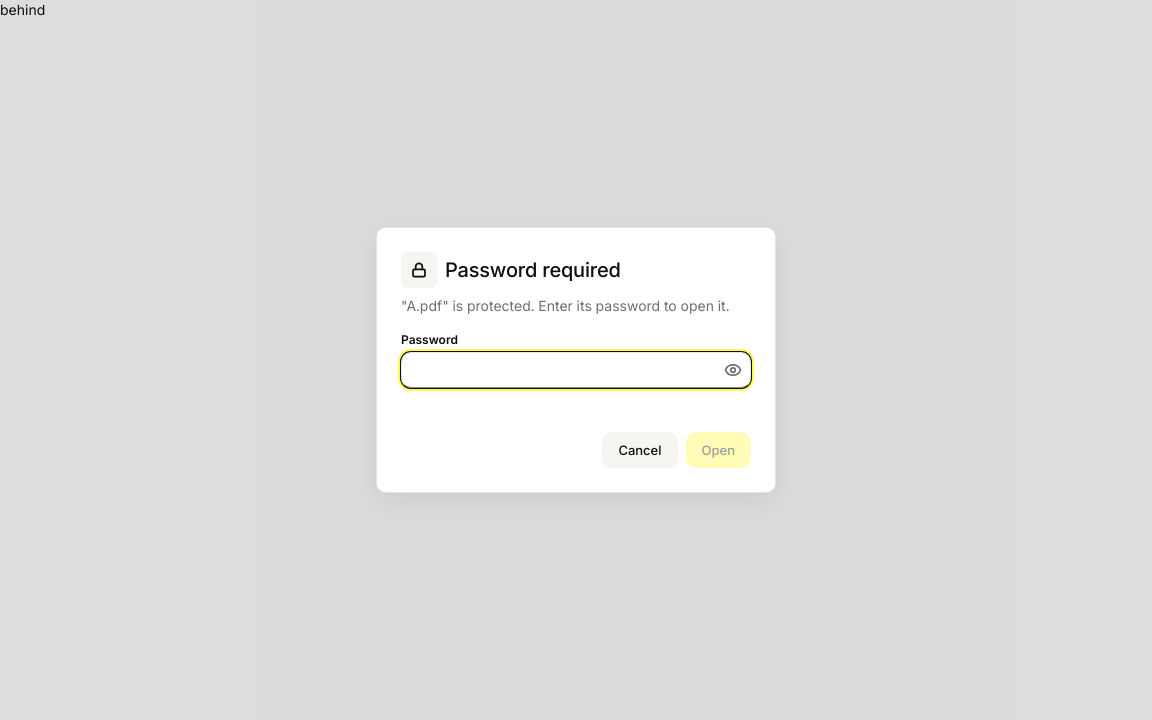
it: the password prompt › a wrong password says so as an alert, marks the field and stays
Type "nope" into the password field labelled "Password" at (576, 370), box [401,352,751,388]
Then press Enter
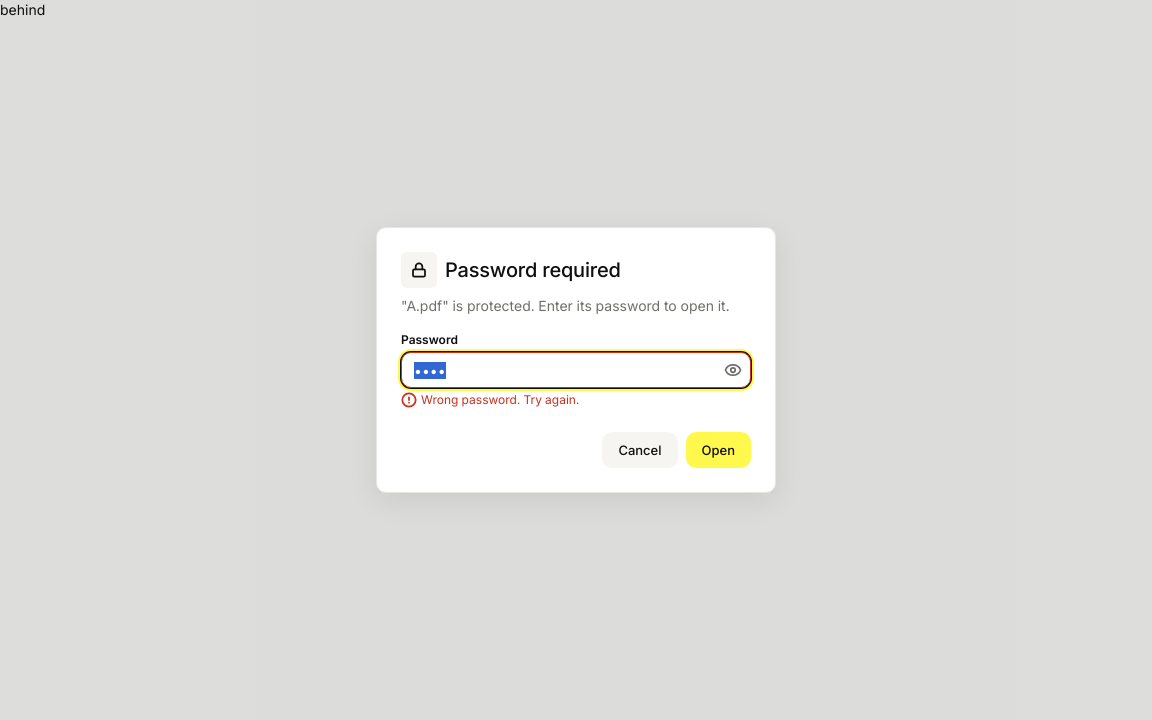
Expected: the dialog is shown, [376,227,776,493]
Expected: the message reads "Wrong password. Try again.", [421,392,579,407]
# Typing again takes the message away.
Type "x" into the password field labelled "Password" at (576, 370), box [401,352,751,388]
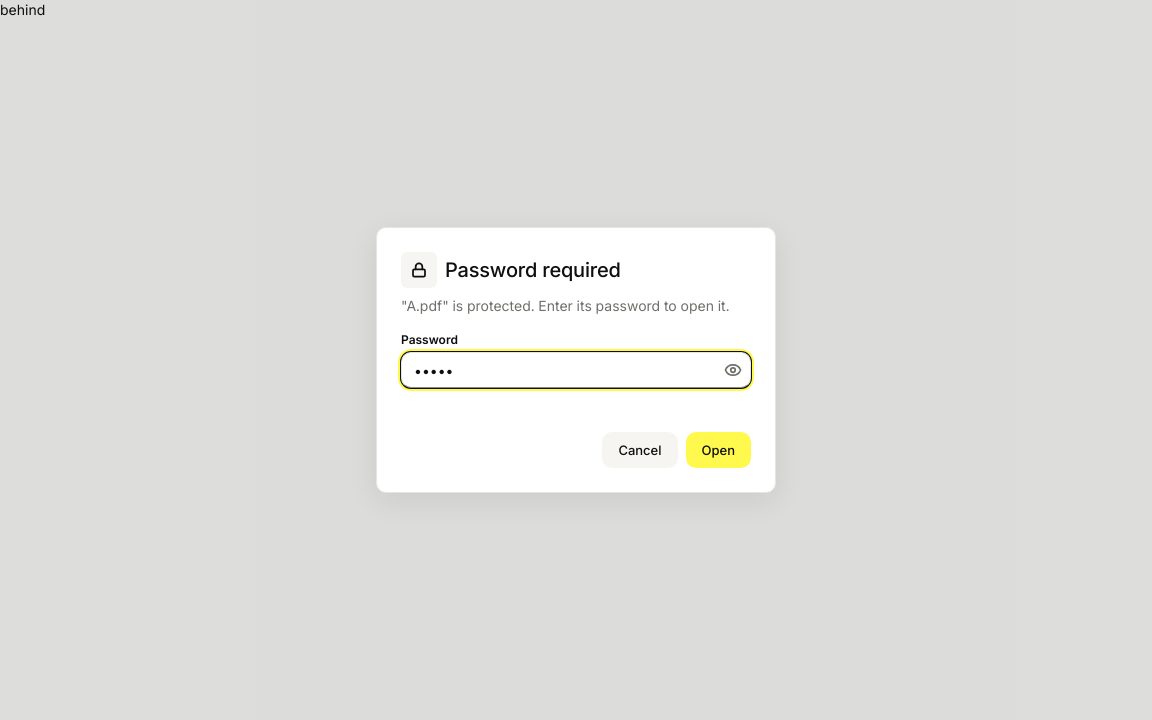
Expected: the message "Wrong password. Try again." is gone
